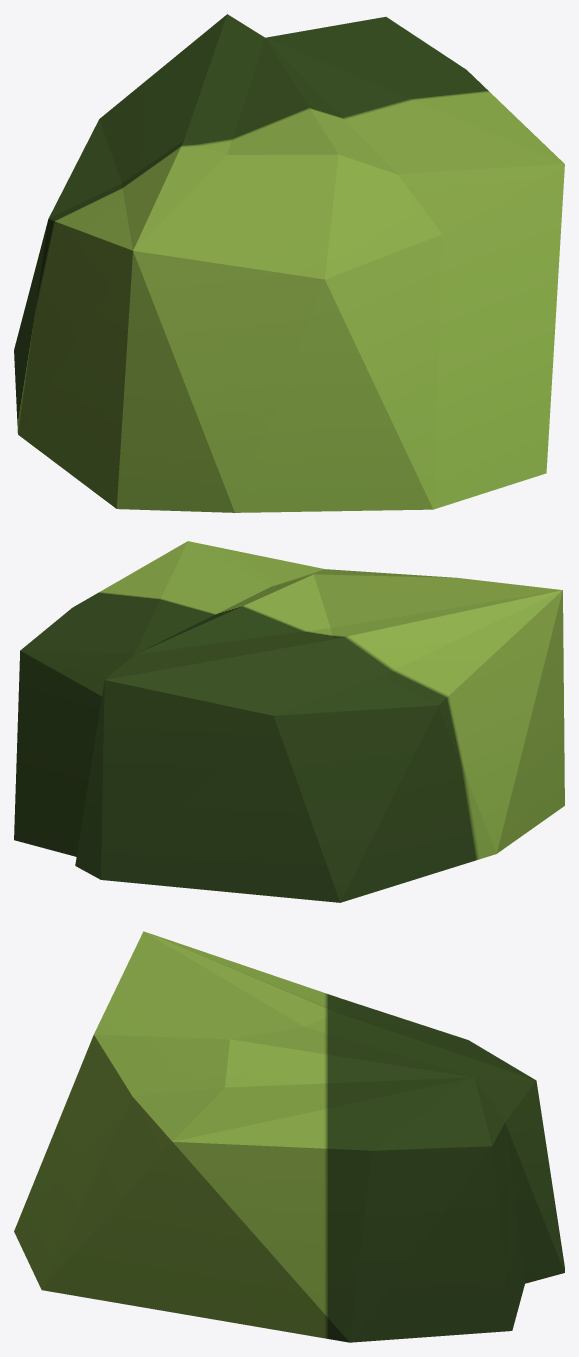
Rendered from Rock_06.fbx.
3 views of the same model, one above another, from view 1: azimuth 30°, elevation 25°; view 2: azimuth 150°, elevation 25°; view 3: azimuth 270°, elevation 25° (orthographic). The views are drawn at different scales.
Parts seen in each view (by area): view 1: Rock_06; view 2: Rock_06; view 3: Rock_06.
Boxes of the visible parts, bbox=[...] form: Rock_06: bbox=[14, 14, 564, 512]; Rock_06: bbox=[14, 541, 564, 902]; Rock_06: bbox=[14, 931, 564, 1342].
Size of the model in its own units: 1.31 by 0.6572 by 1.51.
